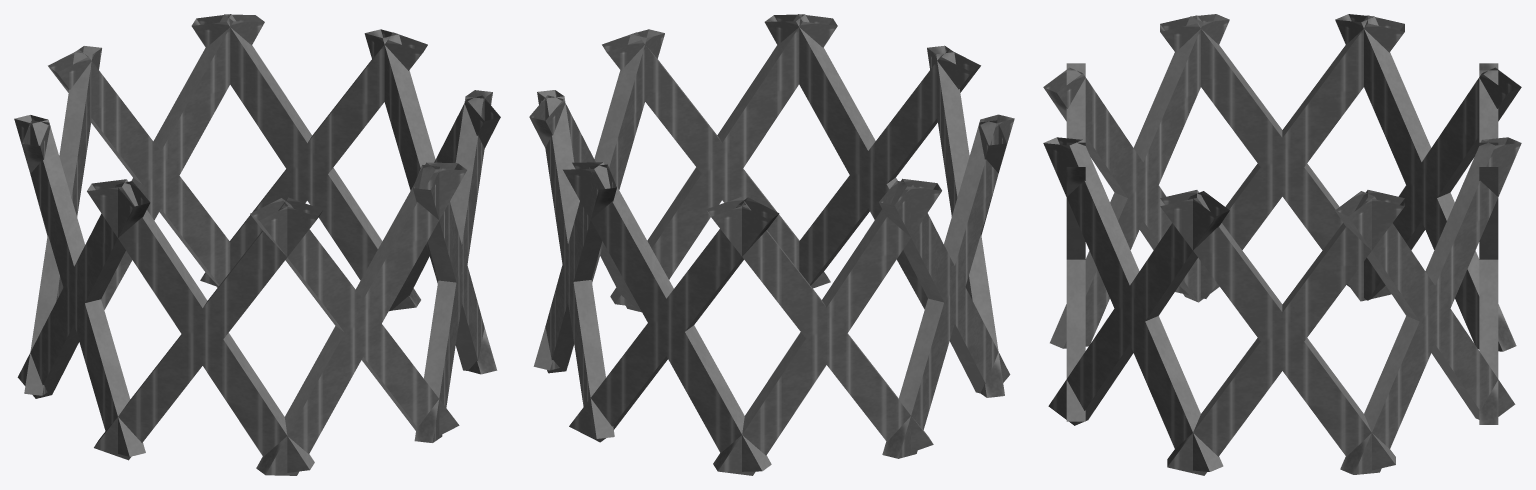
Rendered from ksprocket.fbx.
3 views of the same model, side by side, from view 1: azimuth 30°, elevation 25°; view 2: azimuth 150°, elevation 25°; view 3: azimuth 270°, elevation 25° (orthographic). The views are drawn at different scales.
Visible parts, largest first — view 1: truss.001; view 2: truss.001; view 3: truss.001.
Boxes of the visible parts, bbox=[...] form: truss.001: bbox=[14, 14, 500, 475]; truss.001: bbox=[529, 14, 1014, 475]; truss.001: bbox=[1043, 14, 1521, 475].
Size of the model in its own units: 576 by 369 by 576.
